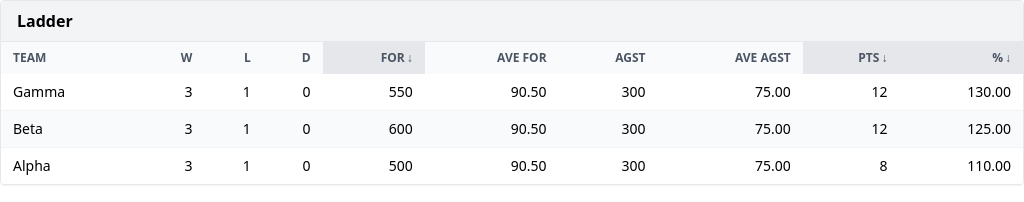
it: LadderTable › shows reset button after changing sort
The width and height of the screenshot is (1024, 202).
Step 1. Click the column heading "%↓" → (961, 58), box [899, 42, 1023, 74]
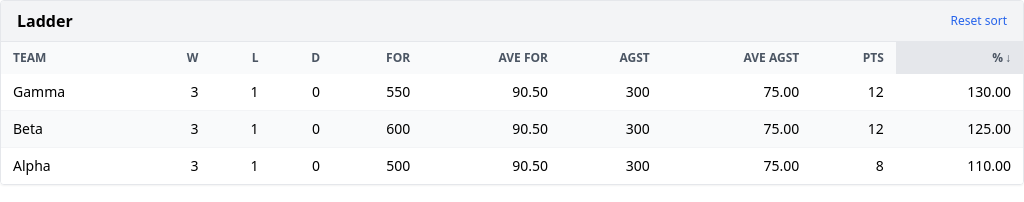
expect the button "Reset sort" is shown: met, box [950, 13, 1007, 29]
